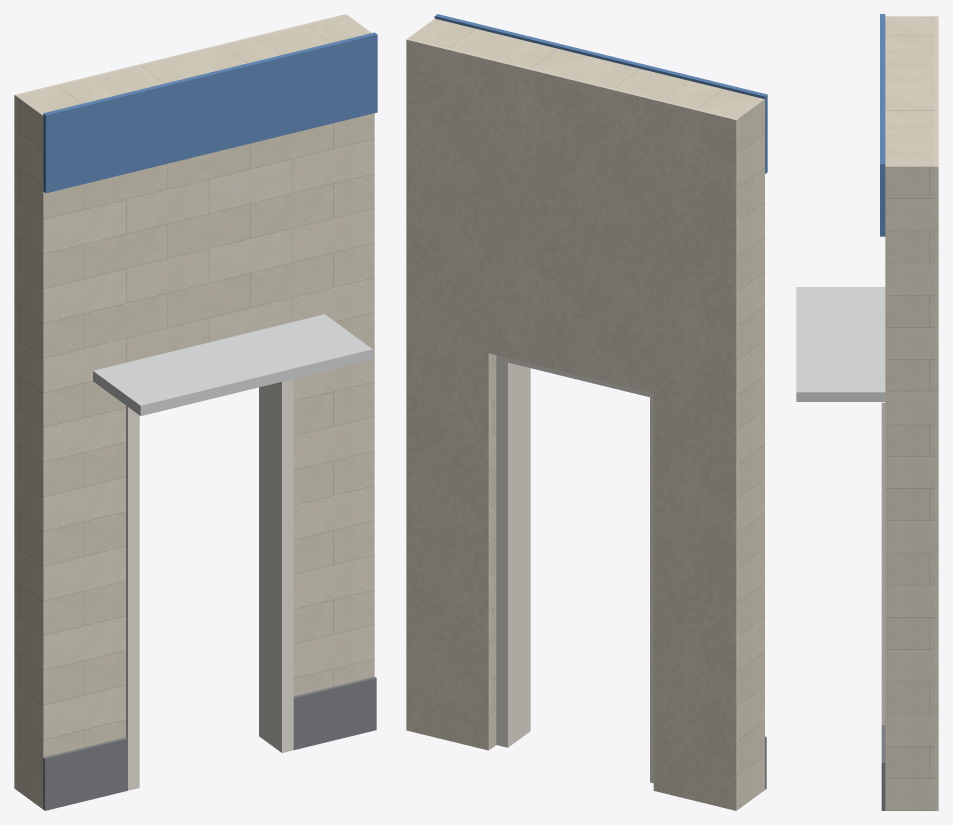
File: wall_store_service_door.glb
3 views of the same model, side by side, from view 1: azimuth 30°, elevation 25°; view 2: azimuth 150°, elevation 25°; view 3: azimuth 270°, elevation 25° (orthographic). The views are drawn at different scales.
Visible parts, largest first — view 1: wall_store_service_door_block, wall_store_service_door_band, wall_store_service_door_frame, wall_store_service_door_alu, wall_store_service_door_dark, wall_store_service_door_plaster; view 2: wall_store_service_door_plaster, wall_store_service_door_block, wall_store_service_door_frame, wall_store_service_door_band; view 3: wall_store_service_door_block, wall_store_service_door_alu, wall_store_service_door_plaster, wall_store_service_door_frame, wall_store_service_door_band, wall_store_service_door_dark.
Part boxes in pixels (box(x1,y1,x2,y2)): wall_store_service_door_block: box(16, 15, 374, 809); wall_store_service_door_band: box(43, 32, 377, 193); wall_store_service_door_frame: box(126, 379, 293, 790); wall_store_service_door_alu: box(93, 314, 372, 415); wall_store_service_door_dark: box(43, 676, 376, 810); wall_store_service_door_plaster: box(14, 14, 347, 789); wall_store_service_door_plaster: box(406, 38, 738, 810); wall_store_service_door_block: box(408, 19, 764, 808); wall_store_service_door_frame: box(496, 355, 653, 783); wall_store_service_door_band: box(434, 14, 767, 173); wall_store_service_door_block: box(885, 16, 934, 810); wall_store_service_door_alu: box(796, 287, 885, 401); wall_store_service_door_plaster: box(935, 16, 938, 810); wall_store_service_door_frame: box(881, 402, 885, 724); wall_store_service_door_band: box(880, 14, 885, 236); wall_store_service_door_dark: box(881, 725, 885, 810).
Bounding box in the file's own units: 2 × 4.01 × 0.8.
6 materials, 2 textured.
